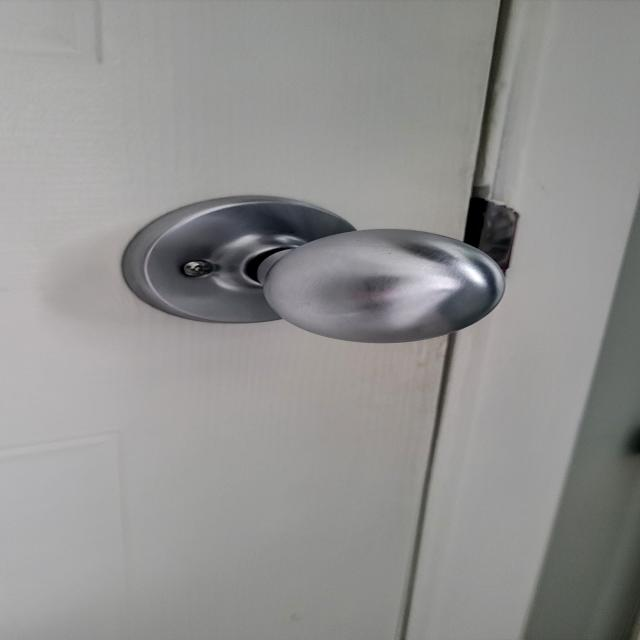door-knob: (122, 196, 503, 342)
